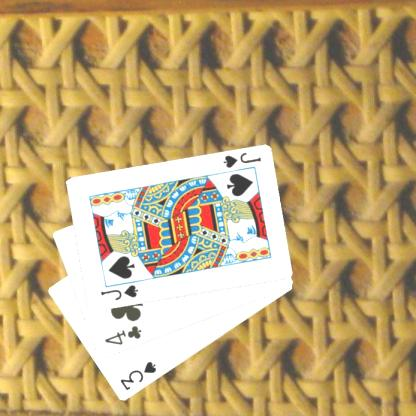3S: (117, 358, 158, 392)
4C: (101, 323, 143, 347)
JS: (98, 282, 140, 302), (220, 151, 262, 170)
